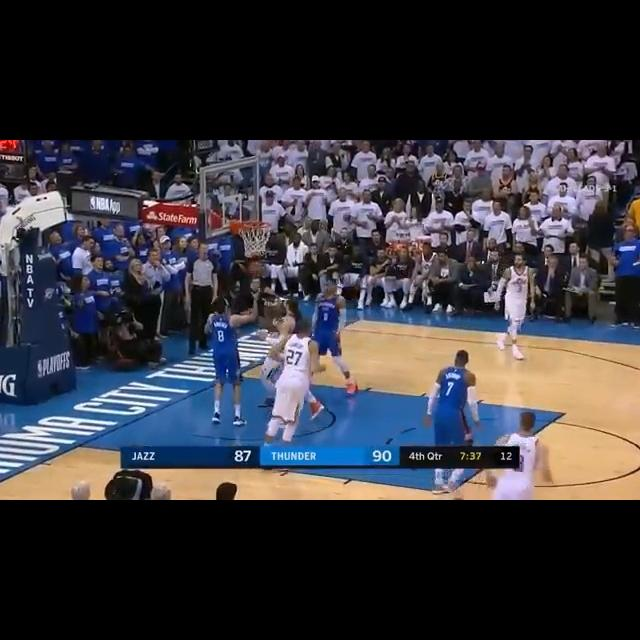basketball: (251, 261, 266, 276)
hoop: (237, 221, 271, 258)
